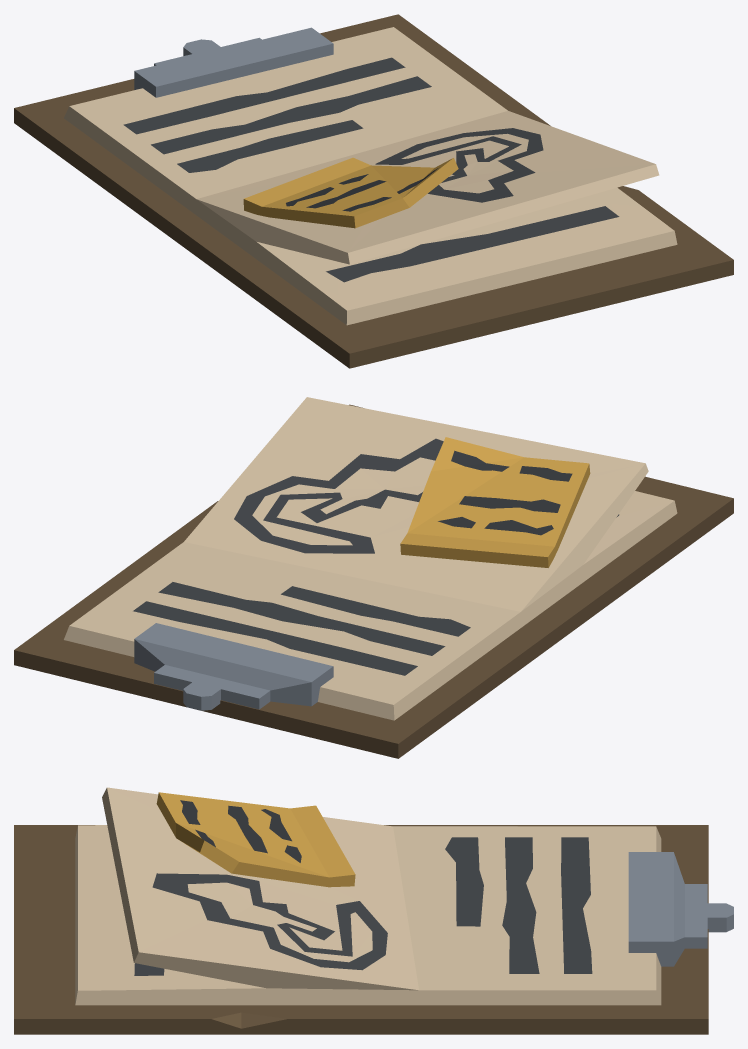
File: SM_Prop_Clipboard_01.fbx
3 views of the same model, one above another, from view 1: azimuth 30°, elevation 25°; view 2: azimuth 150°, elevation 25°; view 3: azimuth 270°, elevation 25° (orthographic). The views are drawn at different scales.
Visible parts, largest first — view 1: SM_Prop_Clipboard_01; view 2: SM_Prop_Clipboard_01; view 3: SM_Prop_Clipboard_01.
Part boxes in pixels (box(x1,y1,x2,y2)): SM_Prop_Clipboard_01: box(14, 14, 733, 368); SM_Prop_Clipboard_01: box(14, 397, 733, 758); SM_Prop_Clipboard_01: box(14, 787, 733, 1034).
Size of the model in its own units: 27.58 by 6.57 by 43.22.
